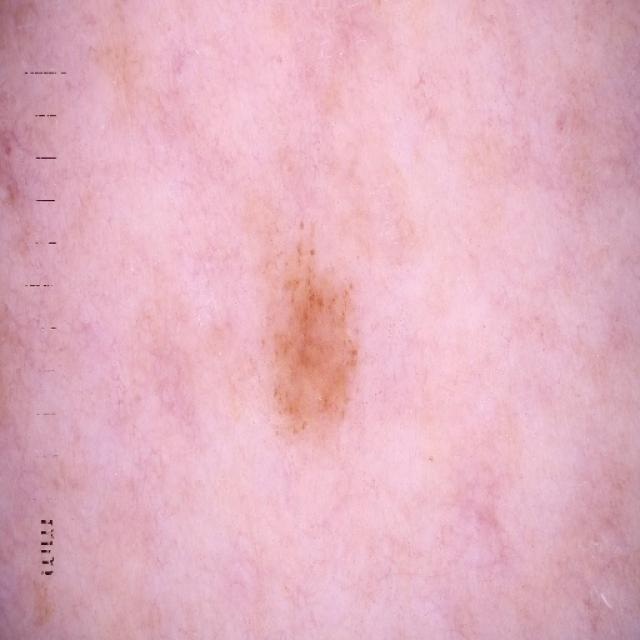Melanoma: (275, 240, 358, 430)
